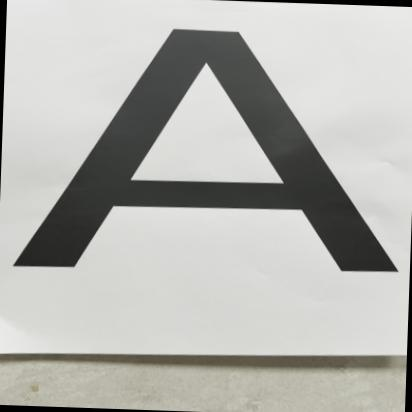seat: (21, 10, 412, 296)
